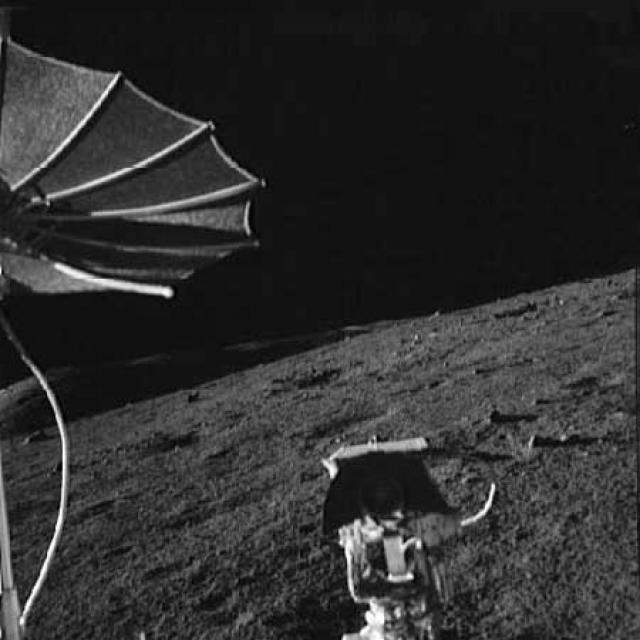artifact: (3, 31, 261, 317), (308, 438, 498, 639), (0, 315, 86, 639)
crater: (151, 431, 202, 447), (297, 372, 352, 386)
rock: (520, 434, 547, 448)
